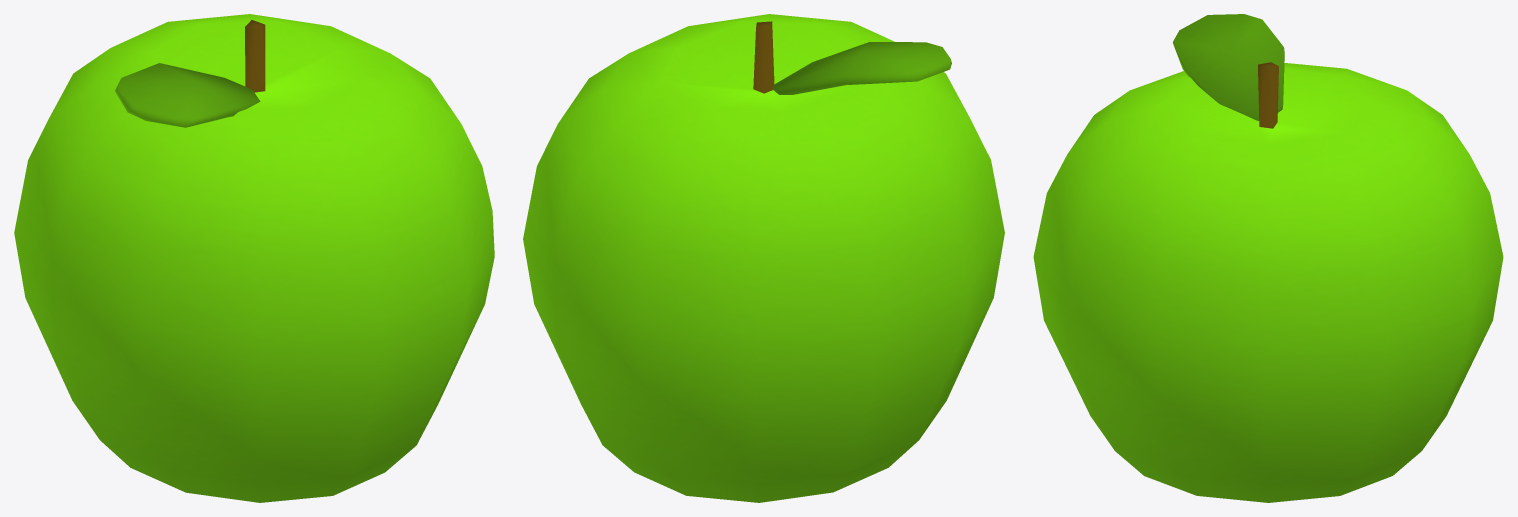
The model's file is green_apple.glb.
3 views of the same model, side by side, from view 1: azimuth 30°, elevation 25°; view 2: azimuth 150°, elevation 25°; view 3: azimuth 270°, elevation 25° (orthographic). The views are drawn at different scales.
Visible parts, largest first — view 1: Green_Apple; view 2: Green_Apple; view 3: Green_Apple.
Boxes of the visible parts, bbox=[...] form: Green_Apple: bbox=[14, 14, 494, 502]; Green_Apple: bbox=[523, 14, 1004, 502]; Green_Apple: bbox=[1033, 14, 1503, 502].
Size of the model in its own units: 0.4685 by 0.4838 by 0.5038.
1 material, 1 textured.
